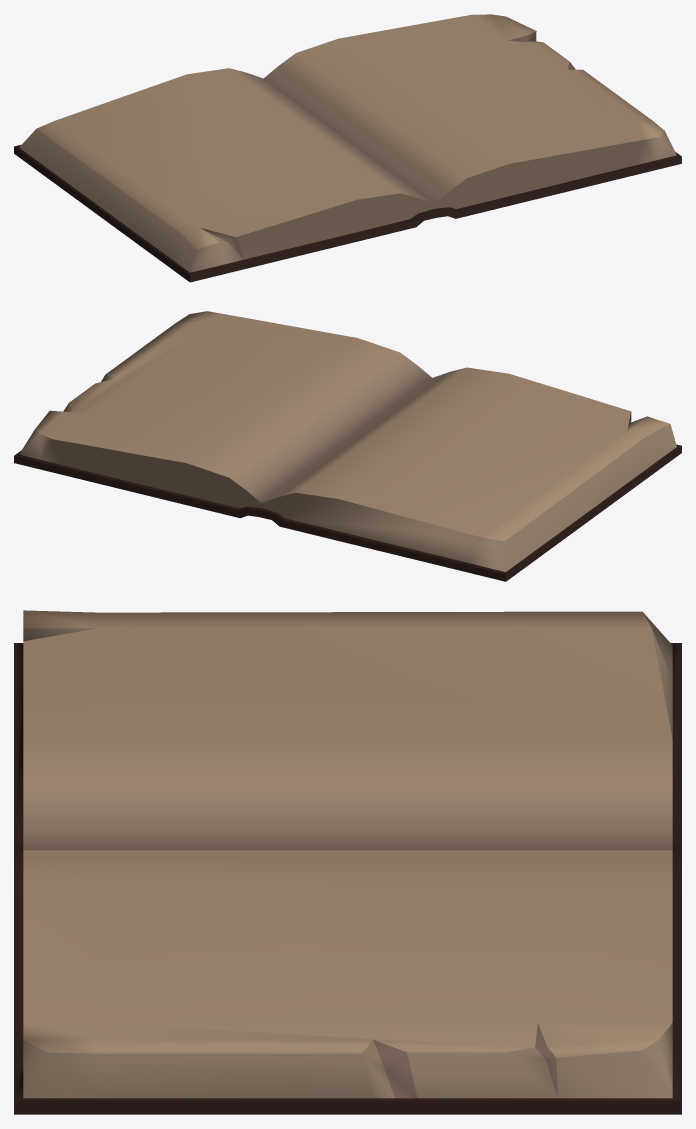
The model's file is human-household-items-book_v11.glb.
3 renders of one model, top to bottom at view 1: azimuth 30°, elevation 25°; view 2: azimuth 150°, elevation 25°; view 3: azimuth 270°, elevation 25°, orthographic. The views are drawn at different scales.
Parts seen in each view (by area): view 1: Book_v11; view 2: Book_v11; view 3: Book_v11.
Boxes of the visible parts, x1=… form: Book_v11: x1=14, y1=14, x2=681, y2=282; Book_v11: x1=14, y1=311, x2=681, y2=581; Book_v11: x1=14, y1=610, x2=681, y2=1114.
Size of the model in its own units: 0.25 by 0.0198 by 0.155.
